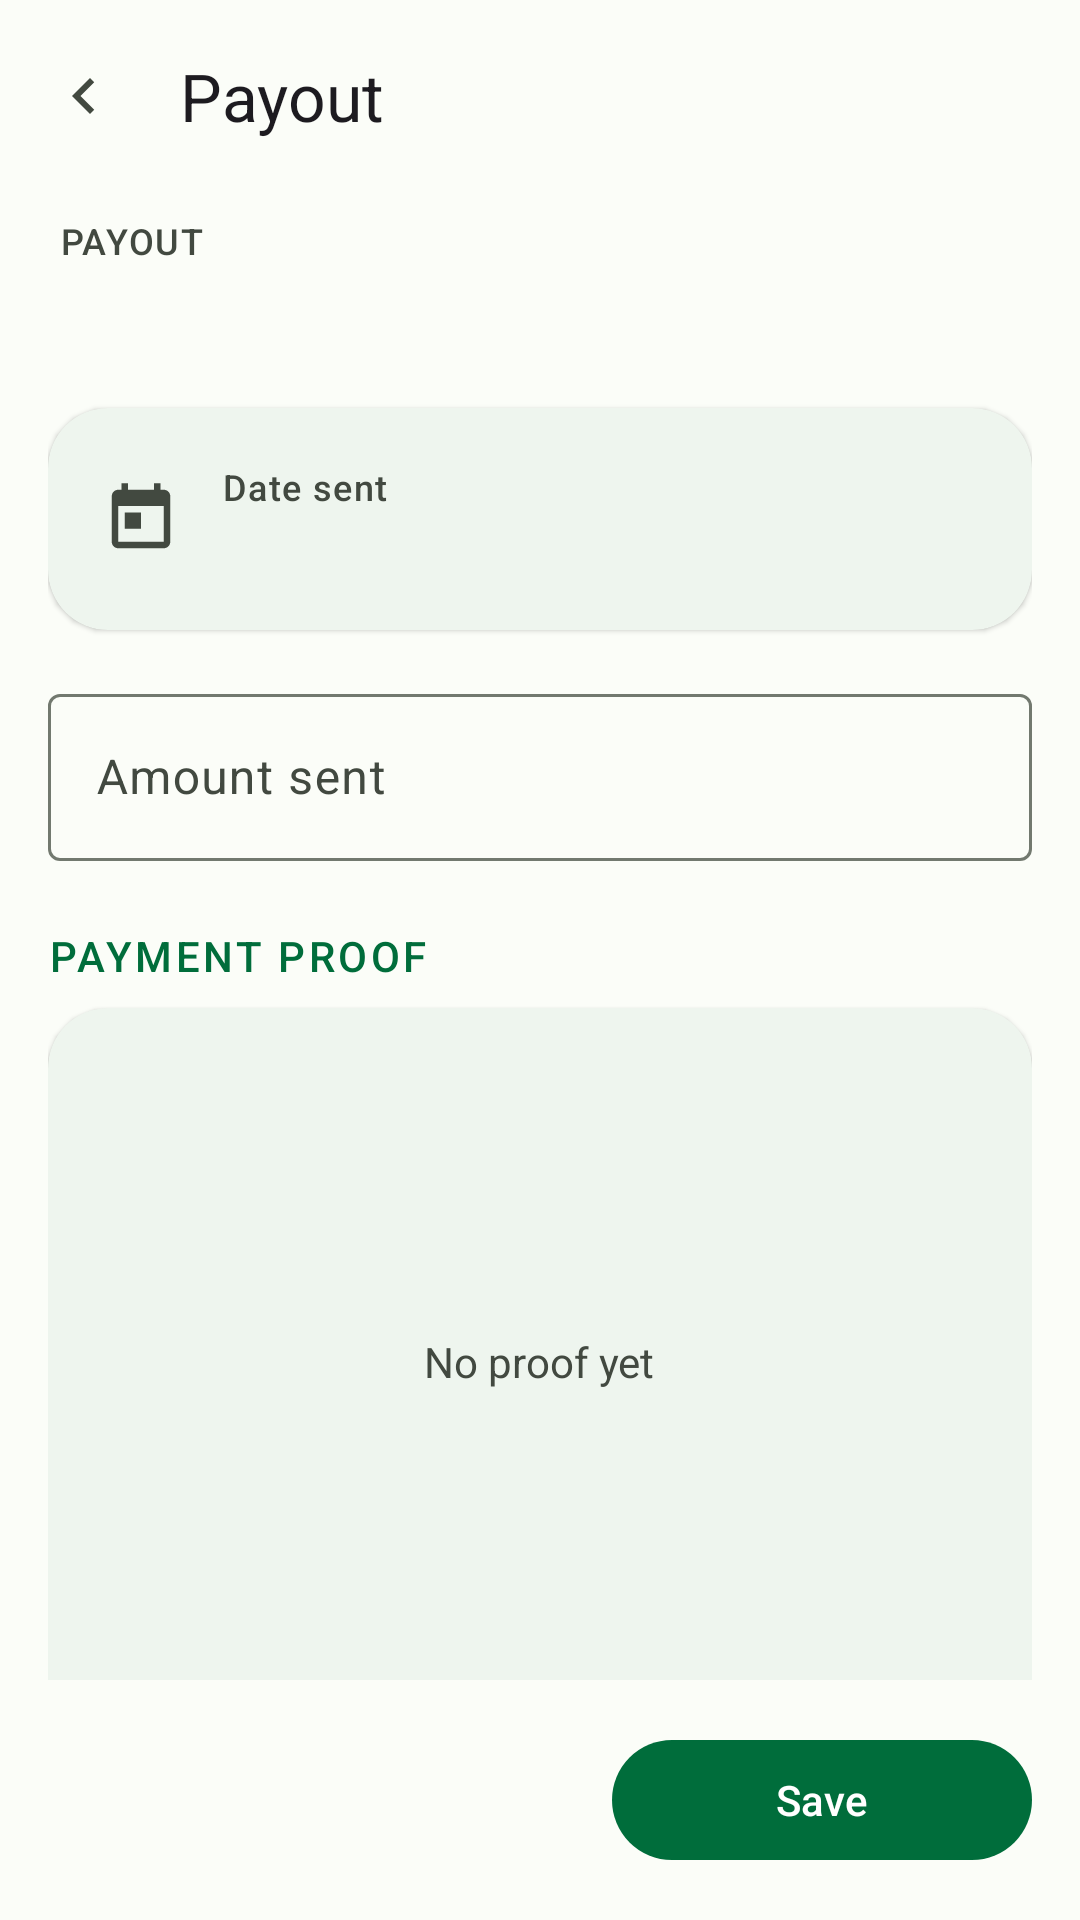

Screen size 1080*1920. Icon name, then its center in pixels as (x=x, y=y):
today: (x=141, y=516)
